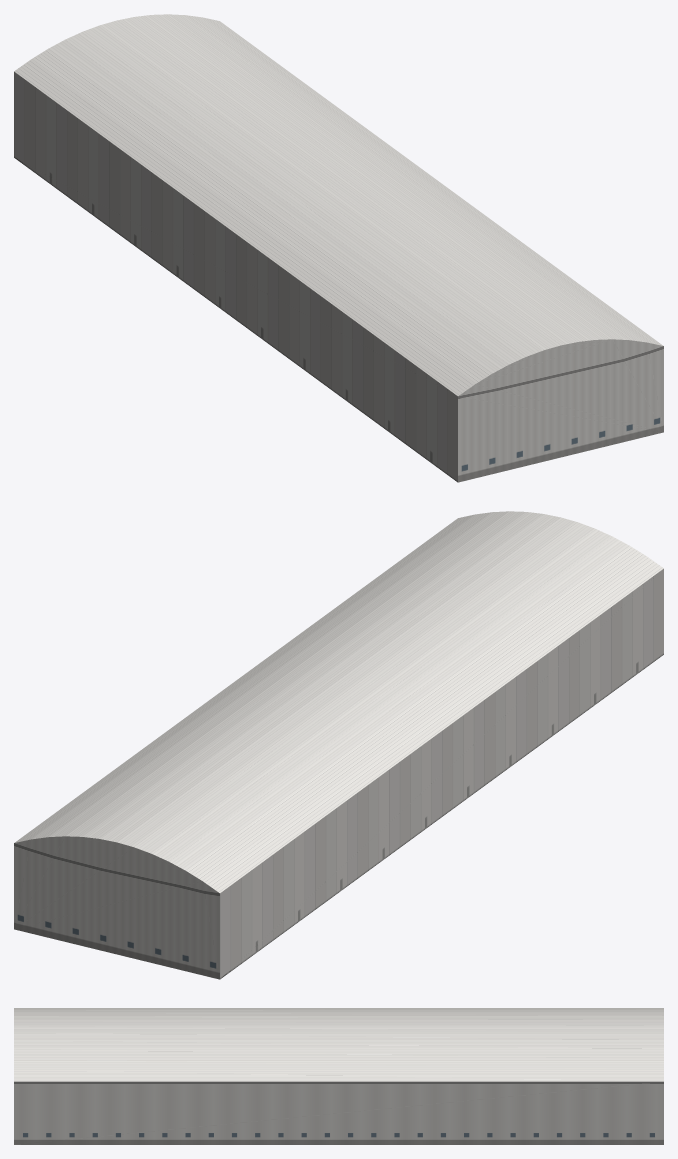
Rendered from khua_hangar_45x168.glb.
3 views of the same model, one above another, from view 1: azimuth 30°, elevation 25°; view 2: azimuth 150°, elevation 25°; view 3: azimuth 270°, elevation 25° (orthographic). The views are drawn at different scales.
Parts seen in each view (by area): view 1: khua_hangar_45x168_hangar_roof, khua_hangar_45x168_hangar_door, khua_hangar_45x168_hangar_wall; view 2: khua_hangar_45x168_hangar_roof, khua_hangar_45x168_hangar_door, khua_hangar_45x168_hangar_wall; view 3: khua_hangar_45x168_hangar_roof, khua_hangar_45x168_hangar_wall.
Boxes of the visible parts, x1,y1,x2,y2 form: khua_hangar_45x168_hangar_roof: (14,14,663,395); khua_hangar_45x168_hangar_door: (14,71,457,482); khua_hangar_45x168_hangar_wall: (458,339,663,482); khua_hangar_45x168_hangar_roof: (14,511,663,892); khua_hangar_45x168_hangar_door: (220,568,663,979); khua_hangar_45x168_hangar_wall: (14,836,219,979); khua_hangar_45x168_hangar_roof: (14,1008,663,1081); khua_hangar_45x168_hangar_wall: (14,1081,663,1144).
Bounding box in the file's own units: 45 × 23.4 × 168.
3 materials, 3 textured.
